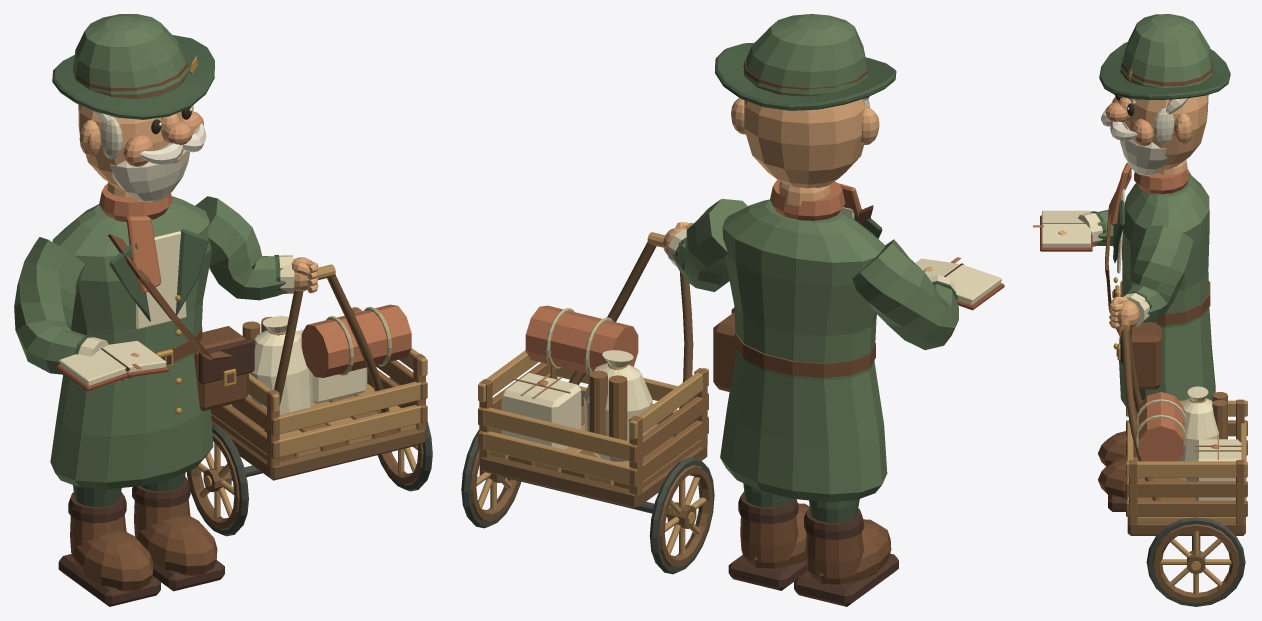
Rendered from matej.glb.
3 renders of one model, left to right at view 1: azimuth 30°, elevation 25°; view 2: azimuth 150°, elevation 25°; view 3: azimuth 270°, elevation 25°, orthographic. The views are drawn at different scales.
Parts seen in each view (by area): view 1: Tailored coat body, Soft asymmetrical hat crown, Left tailored sleeve, Right tailored sleeve, Rolled wool blanket, Soft curved hat brim, Rounded leather toe, Rounded leather toe.001, Sack of supplies, Cart underframe, End gate rail, End gate rail.001 (+36 smaller); view 2: Tailored coat body, Sculpted friendly head, Soft asymmetrical hat crown, Left tailored sleeve, Rolled wool blanket, Soft curved hat brim, Right tailored sleeve, Cart underframe, Parcel at back, End gate rail.002, End gate rail.003, Sack of supplies (+26 smaller); view 3: Tailored coat body, Soft asymmetrical hat crown, Right tailored sleeve, Soft curved hat brim, Rolled wool blanket, Sculpted friendly head, Oak wheel rim.001, Side rail.005, Leather satchel, Side rail.003, Side rail.004, Sack of supplies (+32 smaller).
Boxes of the visible parts, x1=… form: Tailored coat body: x1=50, y1=196, x2=213, y2=489; Soft asymmetrical hat crown: x1=72, y1=14, x2=188, y2=98; Left tailored sleeve: x1=14, y1=237, x2=86, y2=374; Right tailored sleeve: x1=195, y1=196, x2=287, y2=300; Rolled wool blanket: x1=301, y1=304, x2=411, y2=377; Soft curved hat brim: x1=52, y1=35, x2=214, y2=119; Rounded leather toe: x1=72, y1=530, x2=153, y2=591; Rounded leather toe.001: x1=136, y1=515, x2=217, y2=576; Sack of supplies: x1=248, y1=316, x2=312, y2=414; Cart underframe: x1=211, y1=421, x2=425, y2=480; End gate rail: x1=277, y1=405, x2=421, y2=457; End gate rail.001: x1=277, y1=381, x2=421, y2=434; Tailored coat body: x1=720, y1=199, x2=887, y2=501; Sculpted friendly head: x1=743, y1=99, x2=865, y2=188; Soft asymmetrical hat crown: x1=743, y1=14, x2=868, y2=95; Left tailored sleeve: x1=852, y1=239, x2=958, y2=349; Rolled wool blanket: x1=525, y1=305, x2=638, y2=373; Soft curved hat brim: x1=715, y1=42, x2=896, y2=110; Right tailored sleeve: x1=672, y1=199, x2=747, y2=291; Cart underframe: x1=479, y1=446, x2=707, y2=508; Parcel at back: x1=501, y1=373, x2=581, y2=449; End gate rail.002: x1=484, y1=431, x2=631, y2=484; End gate rail.003: x1=484, y1=407, x2=631, y2=461; Sack of supplies: x1=583, y1=350, x2=652, y2=461; Tailored coat body: x1=1119, y1=174, x2=1215, y2=406; Soft asymmetrical hat crown: x1=1120, y1=14, x2=1214, y2=87; Right tailored sleeve: x1=1128, y1=225, x2=1193, y2=323; Soft curved hat brim: x1=1099, y1=42, x2=1230, y2=100; Rolled wool blanket: x1=1138, y1=392, x2=1183, y2=461; Sculpted friendly head: x1=1124, y1=94, x2=1208, y2=169; Oak wheel rim.001: x1=1152, y1=524, x2=1239, y2=602; Side rail.005: x1=1126, y1=461, x2=1247, y2=477; Leather satchel: x1=1130, y1=322, x2=1161, y2=389; Side rail.003: x1=1126, y1=500, x2=1247, y2=516; Side rail.004: x1=1126, y1=481, x2=1247, y2=497; Sack of supplies: x1=1178, y1=386, x2=1218, y2=481.
Size of the model in its own units: 1.92 by 2.39 by 0.9998.
